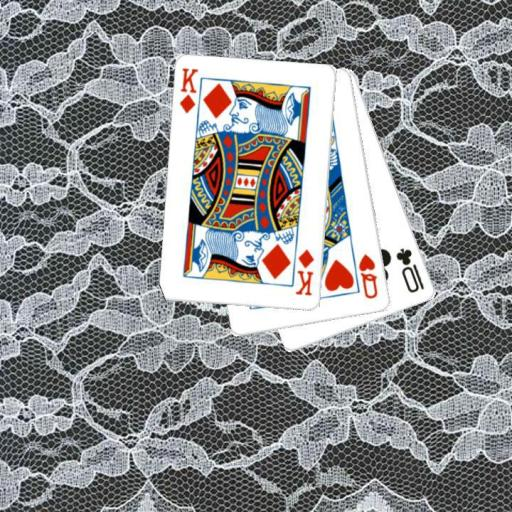10C: (393, 245, 426, 295)
KD: (292, 246, 316, 298), (176, 65, 200, 115)
QH: (356, 251, 380, 301)
